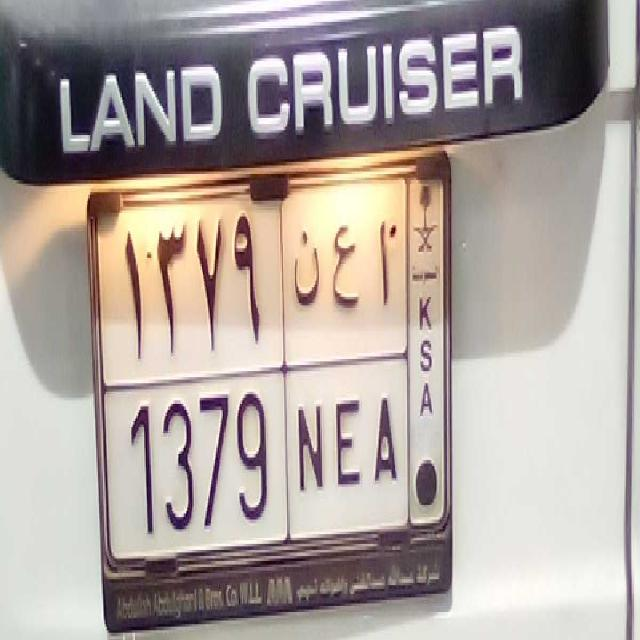license_plate: (116, 363, 406, 537)
